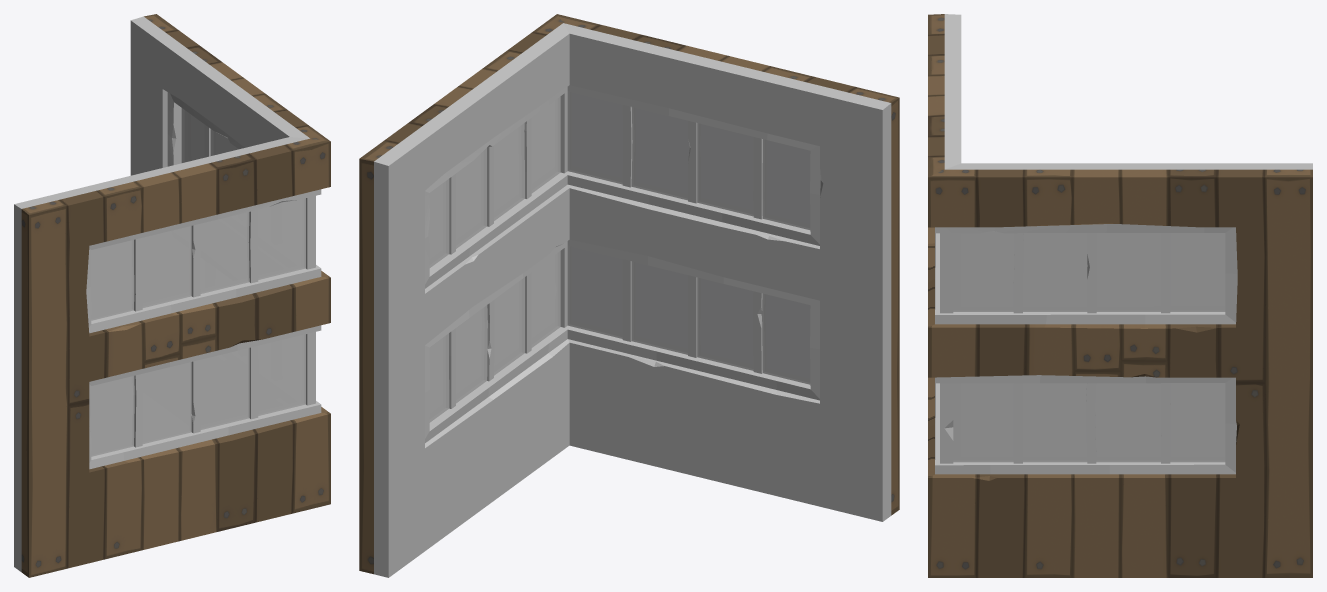
Rendered from SM_Bld_Deco_Wall_Window_06_Corner_01.fbx.
3 renders of one model, left to right at view 1: azimuth 30°, elevation 25°; view 2: azimuth 150°, elevation 25°; view 3: azimuth 270°, elevation 25°, orthographic. The views are drawn at different scales.
Visible parts, largest first — view 1: SM_Bld_Deco_Wall_Window_06_Corner_01; view 2: SM_Bld_Deco_Wall_Window_06_Corner_01; view 3: SM_Bld_Deco_Wall_Window_06_Corner_01.
Boxes of the visible parts, box(x1,y1,x2,y2) form: SM_Bld_Deco_Wall_Window_06_Corner_01: box(14, 14, 330, 577); SM_Bld_Deco_Wall_Window_06_Corner_01: box(359, 14, 899, 577); SM_Bld_Deco_Wall_Window_06_Corner_01: box(928, 14, 1312, 577).
Size of the model in its own units: 261 by 301 by 261.
